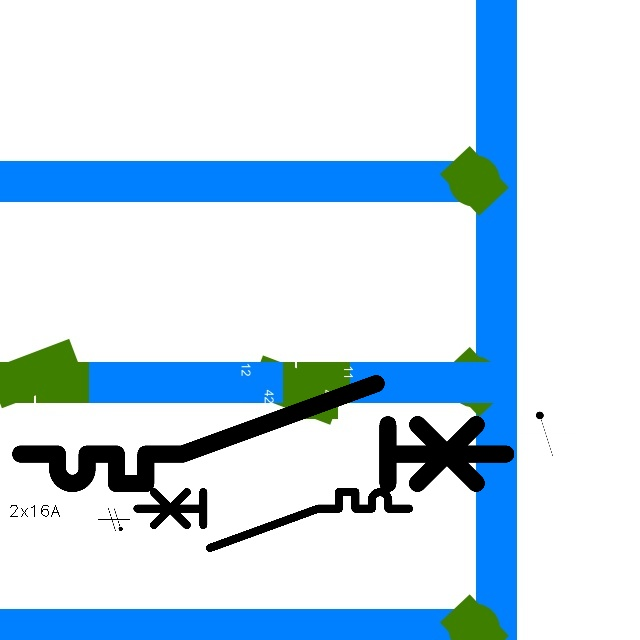interruptor_termomagnetico: (8, 371, 518, 496), (130, 485, 415, 555)
